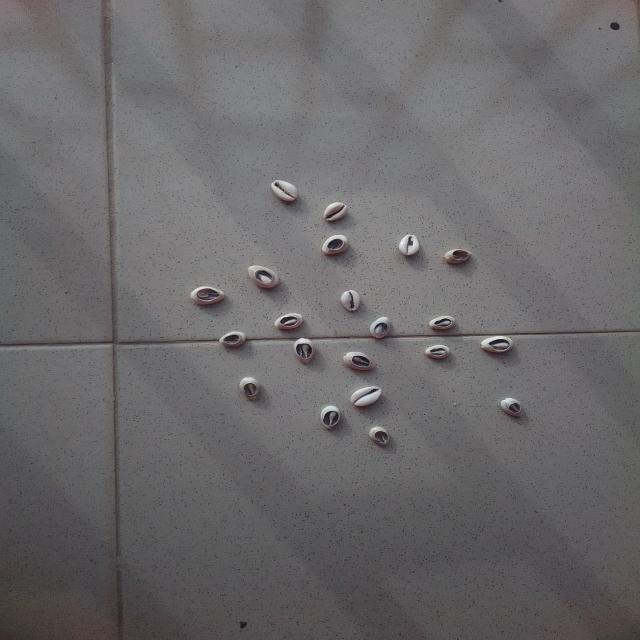facedown: (362, 420, 402, 452), (185, 283, 231, 310), (244, 262, 286, 291), (477, 331, 520, 359), (312, 402, 348, 435), (435, 245, 481, 270), (496, 394, 533, 424), (319, 233, 358, 259), (268, 309, 310, 333), (366, 315, 402, 343), (291, 336, 322, 368), (341, 350, 382, 374), (334, 287, 369, 315), (213, 329, 255, 352), (420, 339, 457, 365), (237, 373, 268, 402), (427, 314, 462, 334)
faceup: (264, 177, 304, 207), (348, 383, 388, 412), (318, 198, 352, 226), (397, 230, 426, 262)
